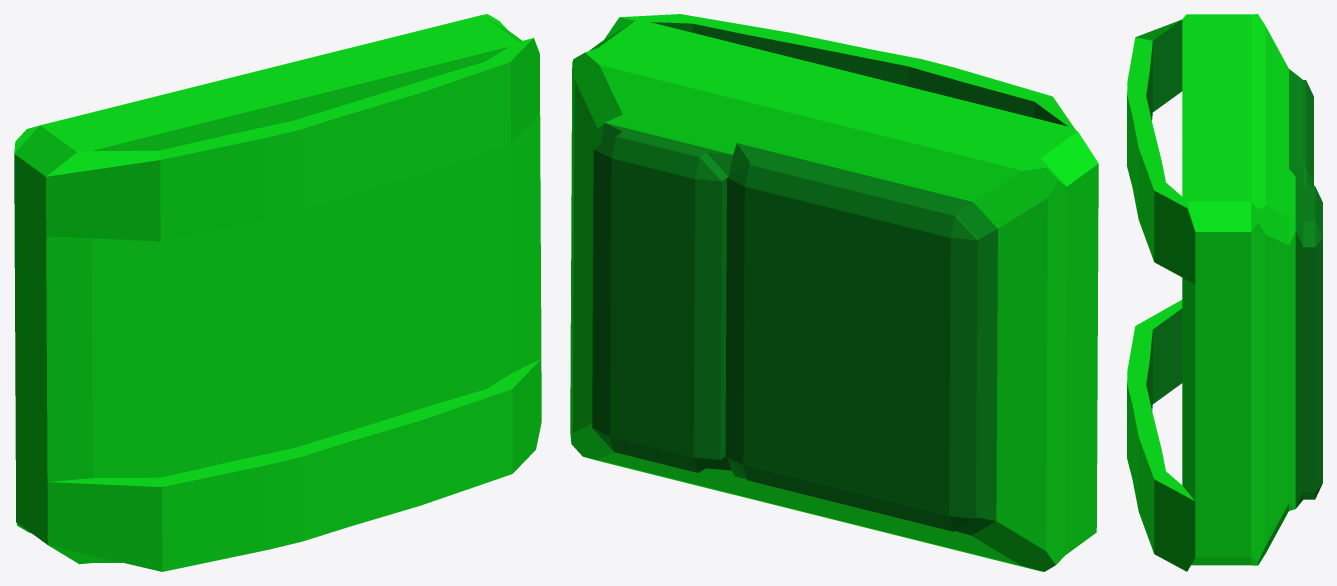
The model's file is Backpack.fbx.
The picture shows the model from 3 angles, left to right: view 1: azimuth 30°, elevation 25°; view 2: azimuth 150°, elevation 25°; view 3: azimuth 270°, elevation 25°; orthographic projection. The views are drawn at different scales.
Parts seen in each view (by area): view 1: Backpack; view 2: Backpack; view 3: Backpack.
Part boxes in pixels (left/top/right/bottom): Backpack: left=14, top=14, right=541, bottom=571; Backpack: left=570, top=14, right=1098, bottom=571; Backpack: left=1127, top=14, right=1322, bottom=571.
Bounding box in the file's own units: 120 × 95.76 × 46.55.
